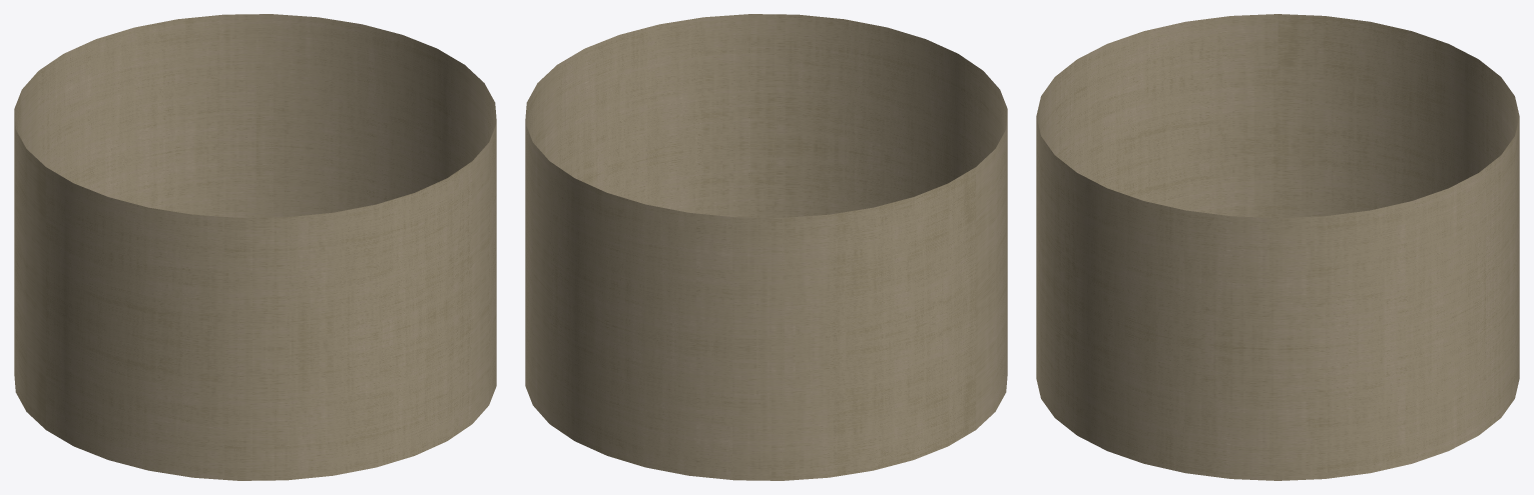
File: Background01.fbx
3 views of the same model, side by side, from view 1: azimuth 30°, elevation 25°; view 2: azimuth 150°, elevation 25°; view 3: azimuth 270°, elevation 25° (orthographic).
Parts seen in each view (by area): view 1: Cylinder; view 2: Cylinder; view 3: Cylinder.
Part boxes in pixels (bbox=[...]): Cylinder: bbox=[14, 14, 496, 480]; Cylinder: bbox=[525, 14, 1007, 480]; Cylinder: bbox=[1036, 14, 1519, 480].
Bounding box in the file's own units: 37994 × 22800 × 37994.
